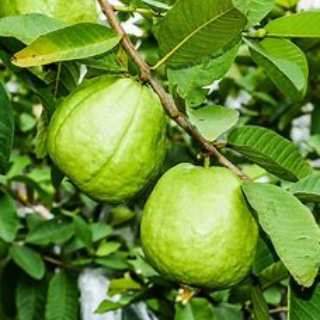oi: (39, 65, 167, 204), (139, 166, 266, 305)
